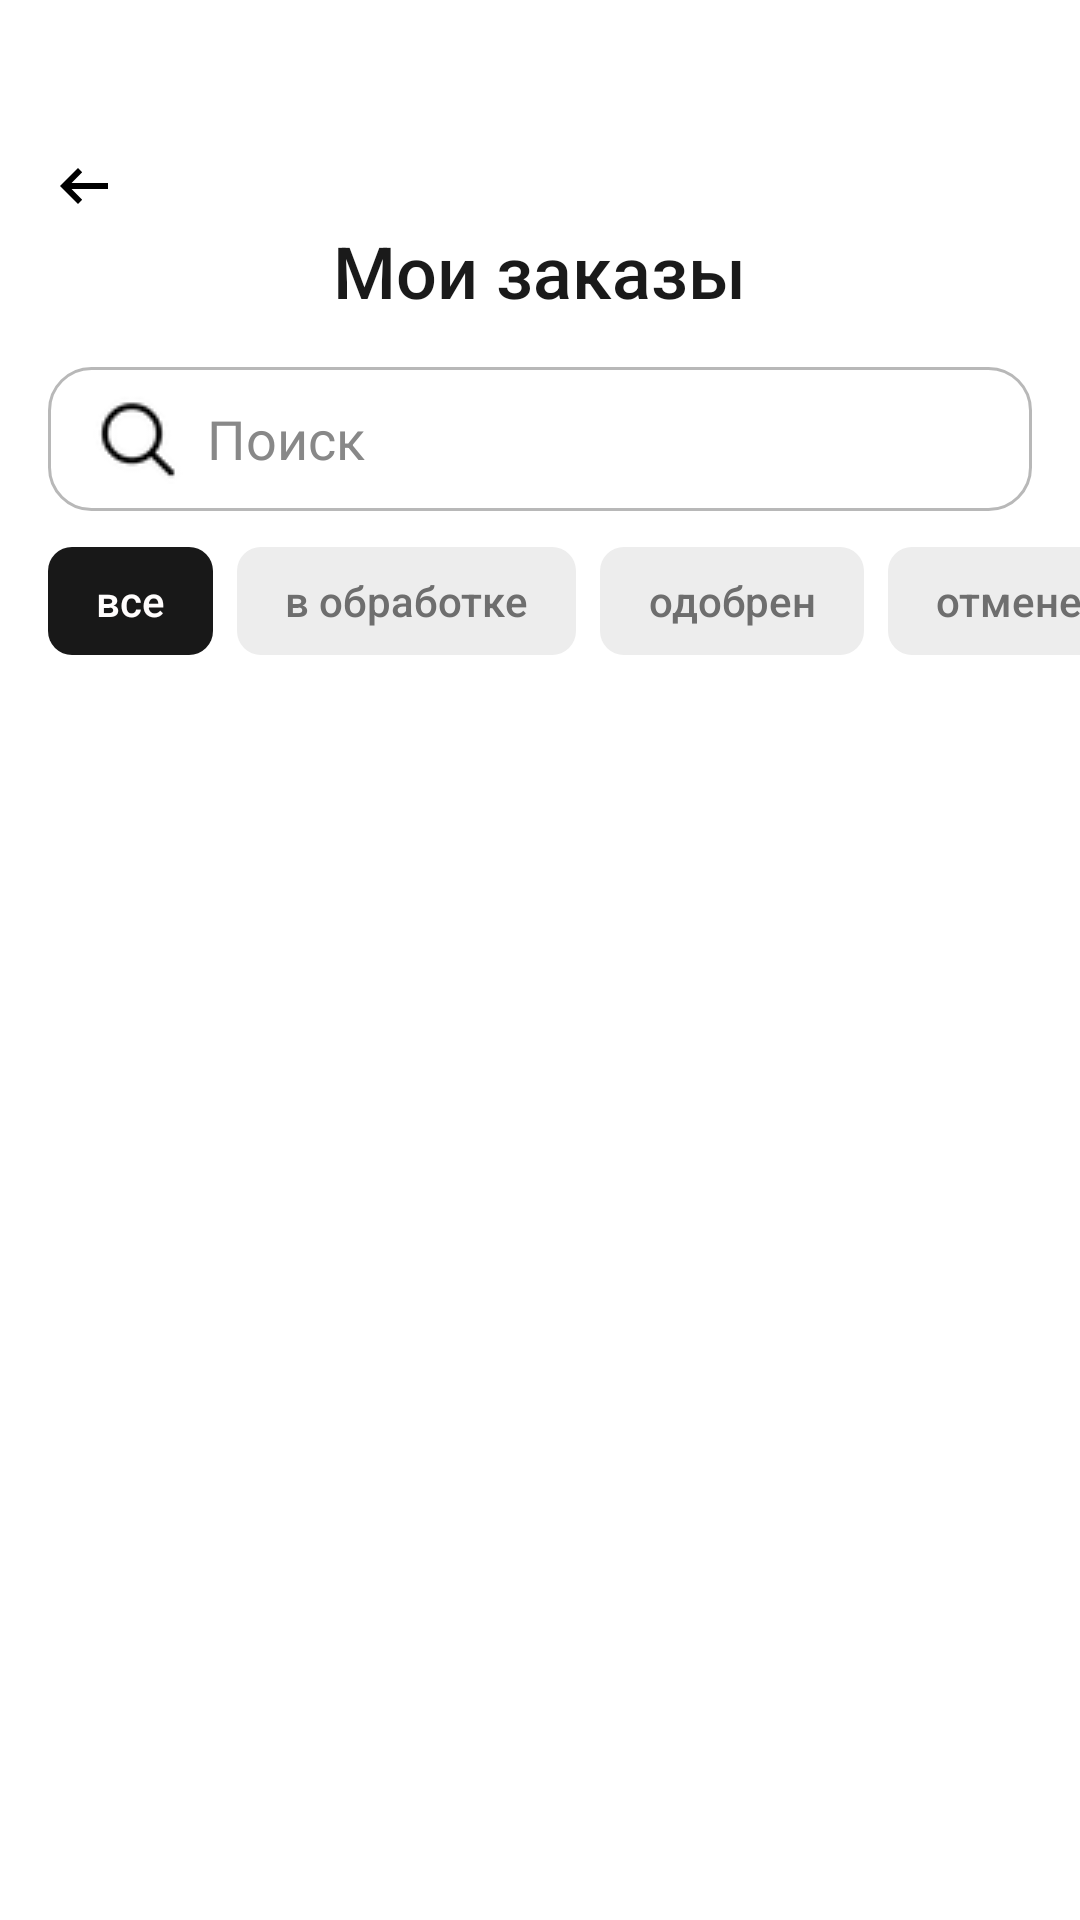

Icon bounding boxes for this 1080 × 1920 phone screenshot, format (x1, y1, x2, y2):
arrow left: (60, 168, 108, 204)
